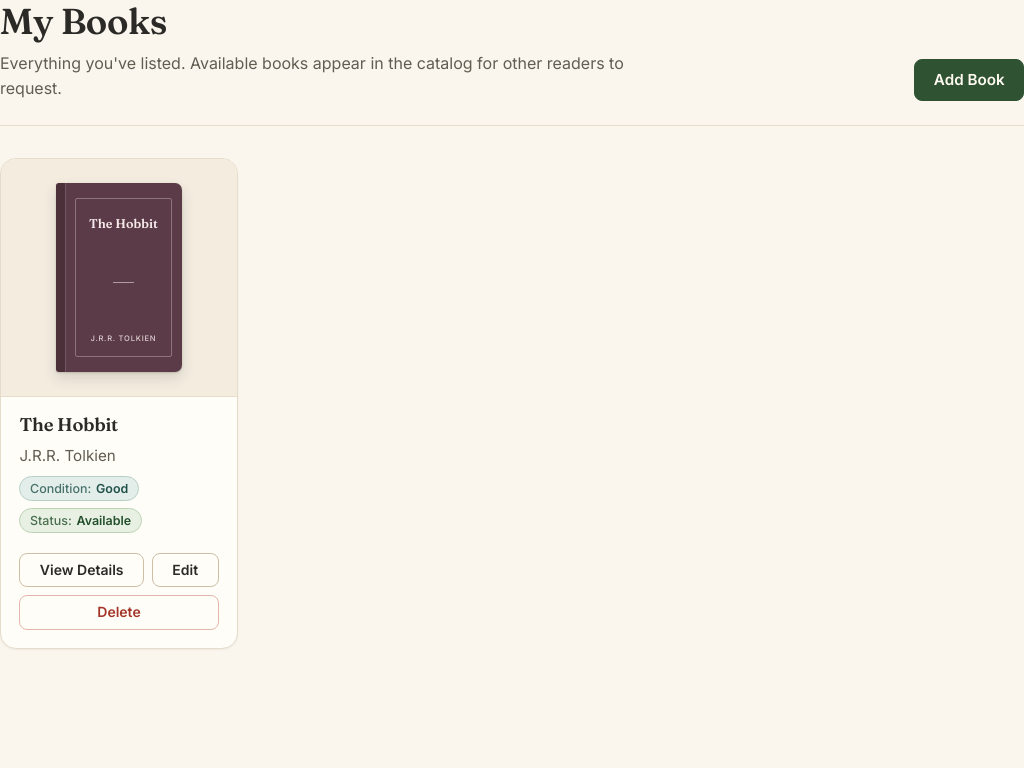
Test: book pages › shows delete confirmation on my books
Click the button "Delete".
click(119, 612)  # box [19,595,219,630]
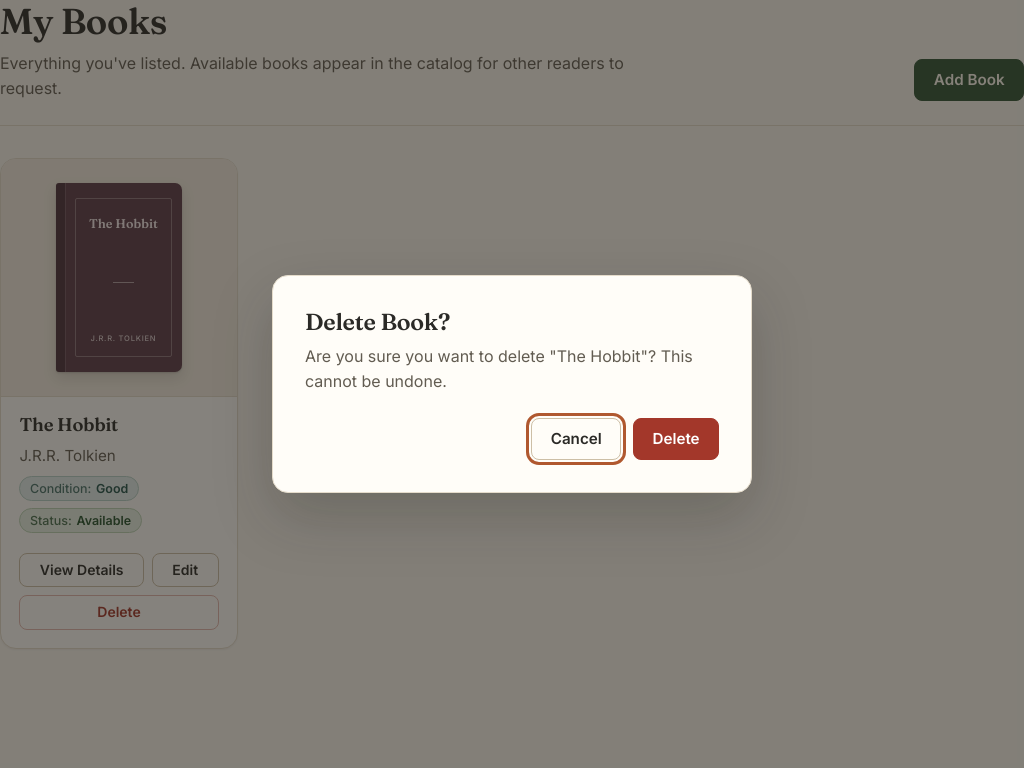
Expected: the dialog shows "delete \"The Hobbit\"", [305,346,693,391]
